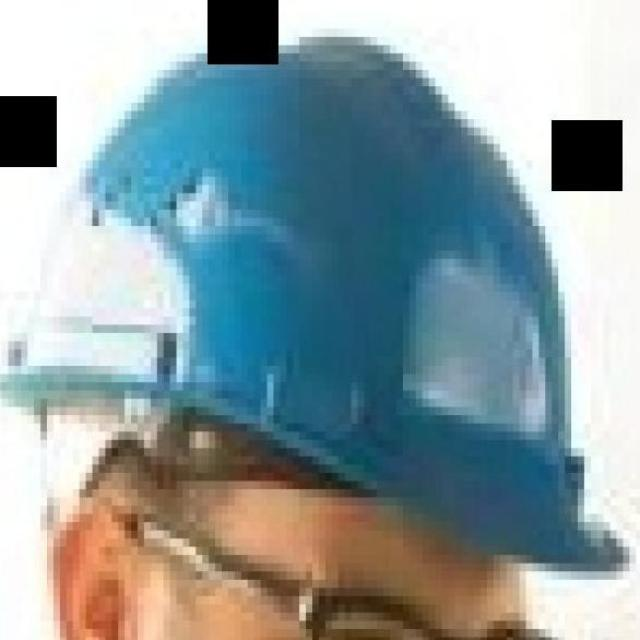blue helmet: (0, 25, 629, 588)
